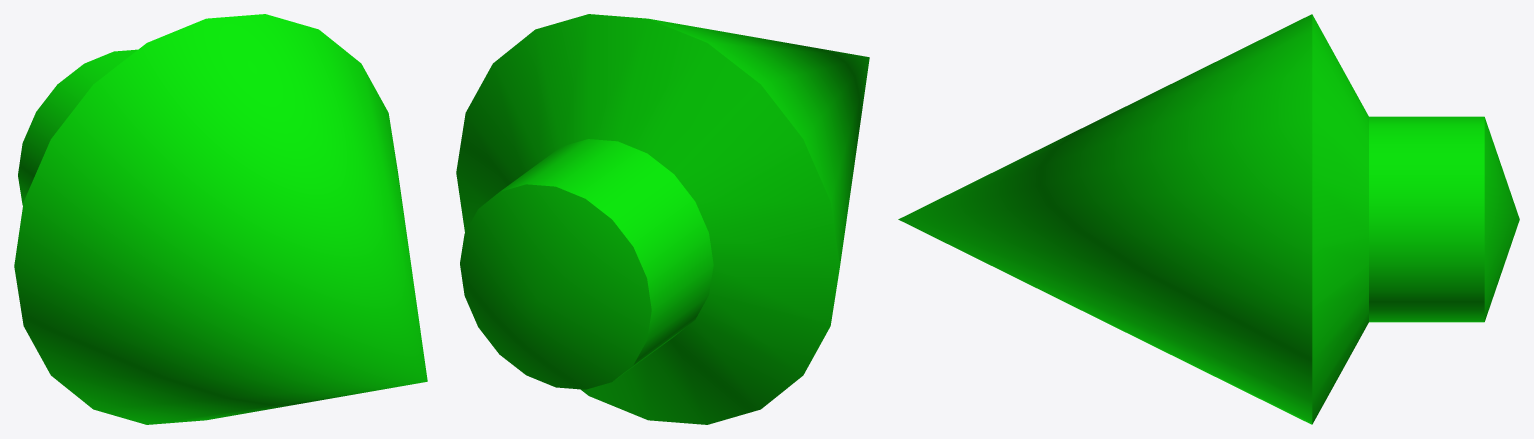
Rendered from Arrow.fbx.
The picture shows the model from 3 angles, left to right: view 1: azimuth 30°, elevation 25°; view 2: azimuth 150°, elevation 25°; view 3: azimuth 270°, elevation 25°; orthographic projection. The views are drawn at different scales.
Visible parts, largest first — view 1: Arrow; view 2: Arrow; view 3: Arrow.
Boxes of the visible parts, box(x1,y1,x2,y2) form: Arrow: box(14, 14, 427, 424); Arrow: box(456, 14, 869, 424); Arrow: box(898, 14, 1519, 424).
Bounding box in the file's own units: 2 × 2 × 3.
